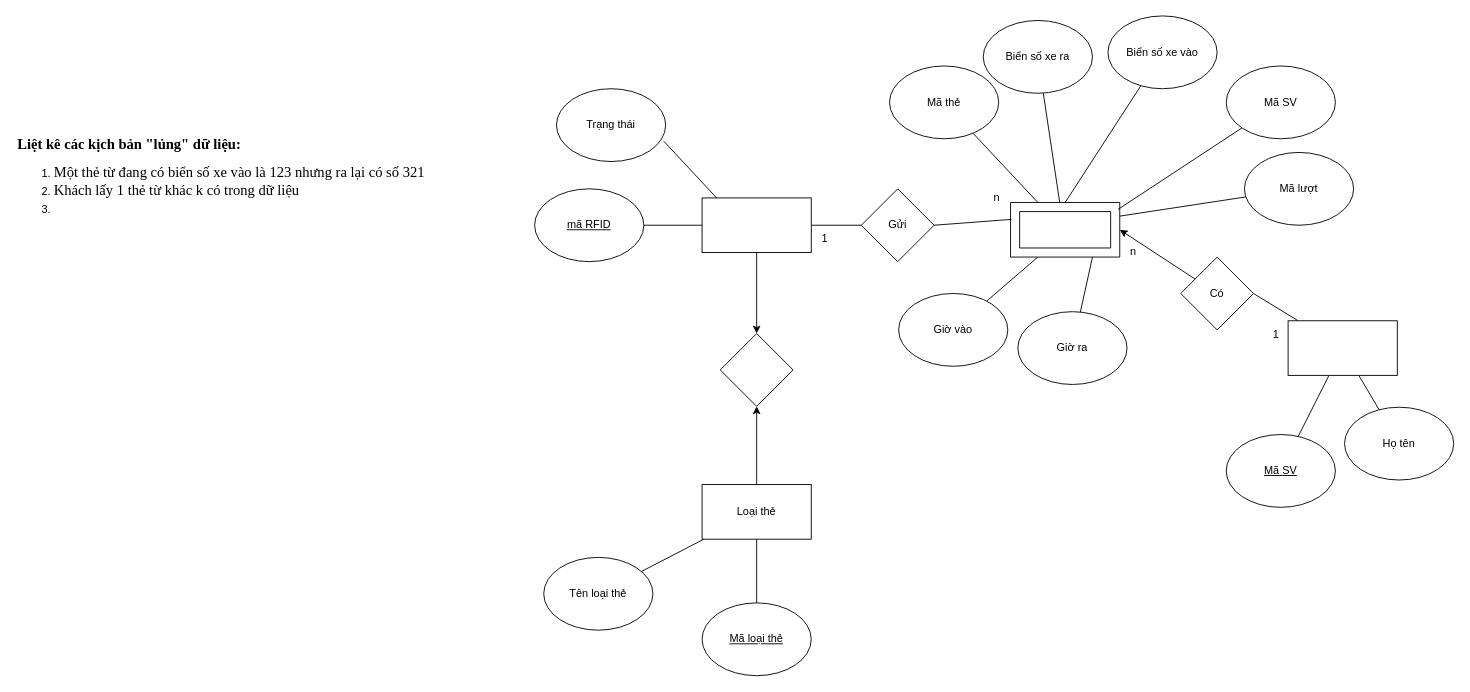
Some shapes in this 1470 by 692 pixel diagram are drawn without their labels. Here are the shapes that lost their labels. From the top down, the centre of each, then its label:
At pixel 756 225: "Thẻ từ".
At pixel 1065 229: "Lượt Gửi Xe".
At pixel 1342 347: "Sinh viên/Chủ xe".
At pixel 756 369: "Gồm".
